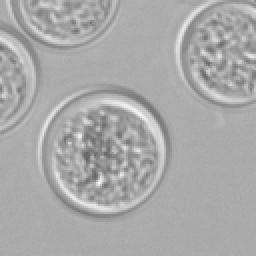picoshell: (38, 84, 168, 216), (174, 0, 254, 108), (4, 0, 122, 50), (0, 22, 40, 136)
